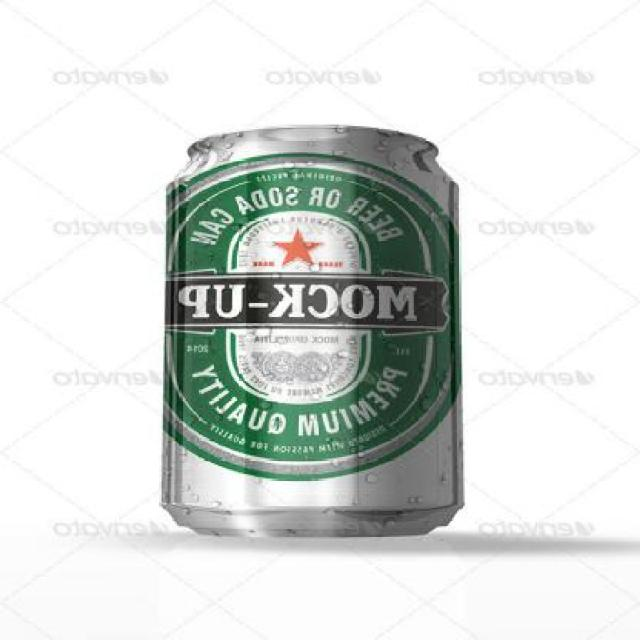metal: (162, 126, 467, 536)
